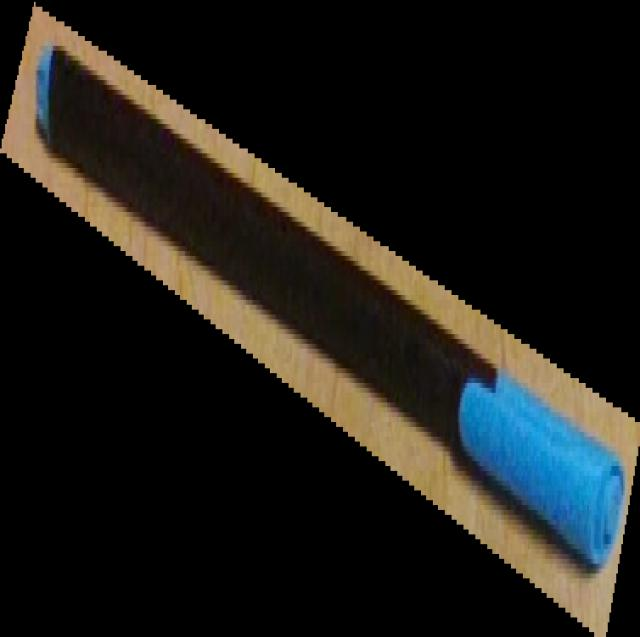blue: (0, 1, 640, 637)
